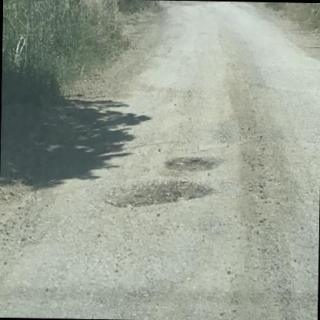pothole: (106, 182, 215, 208), (165, 157, 221, 172)
